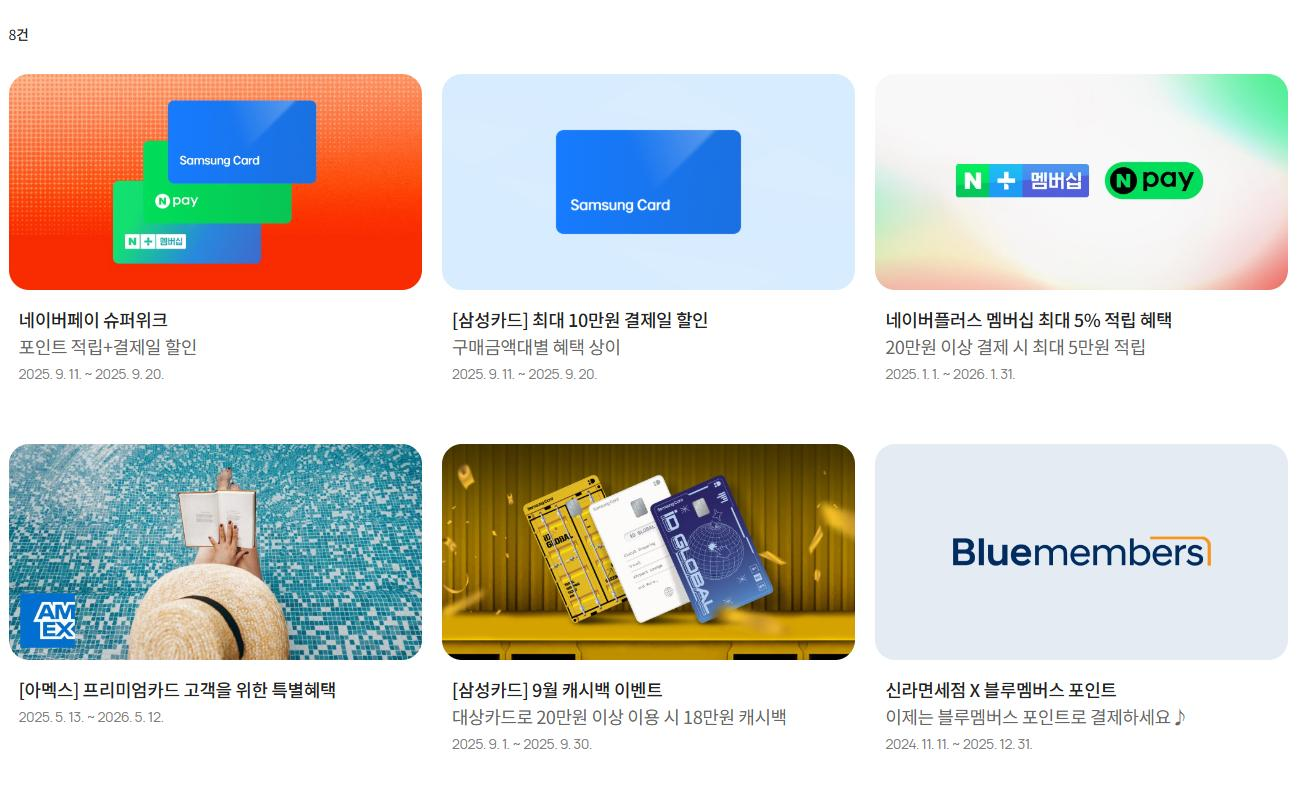button: (8, 73, 424, 287)
